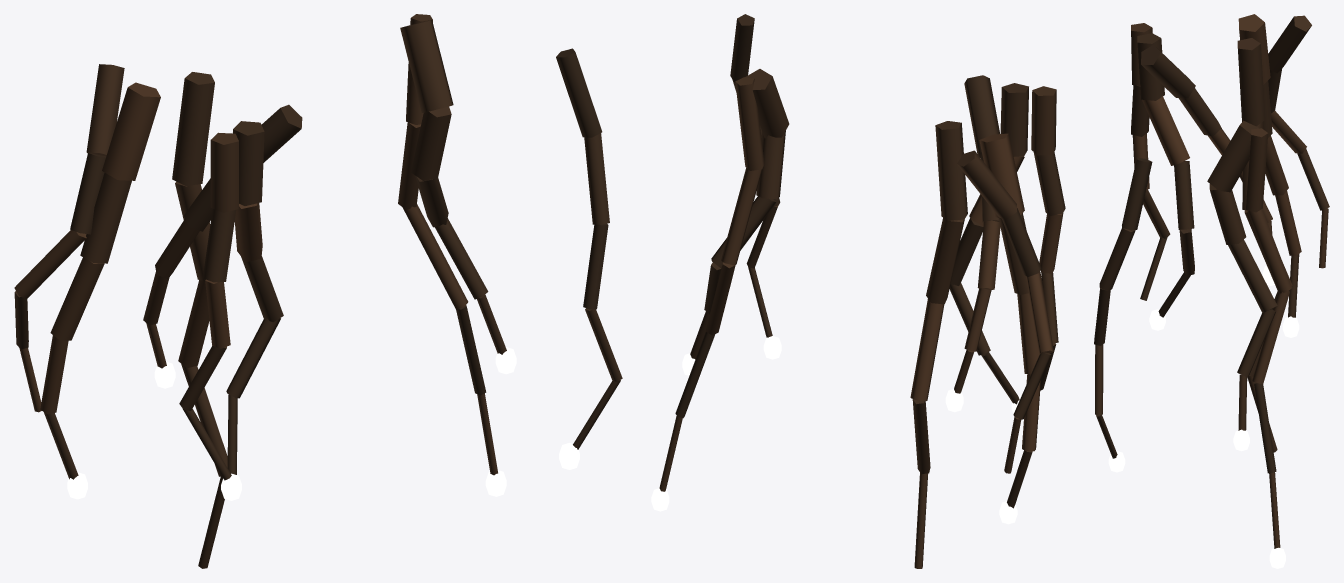
Rendered from raices_colgantes.glb.
3 views of the same model, side by side, from view 1: azimuth 30°, elevation 25°; view 2: azimuth 150°, elevation 25°; view 3: azimuth 270°, elevation 25° (orthographic). The views are drawn at different scales.
Parts seen in each view (by area): view 1: raices_colgantes_Malla; view 2: raices_colgantes_Malla; view 3: raices_colgantes_Malla.
Part boxes in pixels (x1=…): raices_colgantes_Malla: x1=14, y1=14, x2=622, y2=568; raices_colgantes_Malla: x1=651, y1=14, x2=1065, y2=568; raices_colgantes_Malla: x1=1094, y1=14, x2=1329, y2=568.
Bounding box in the file's own units: 3.66 × 3.79 × 1.97.
